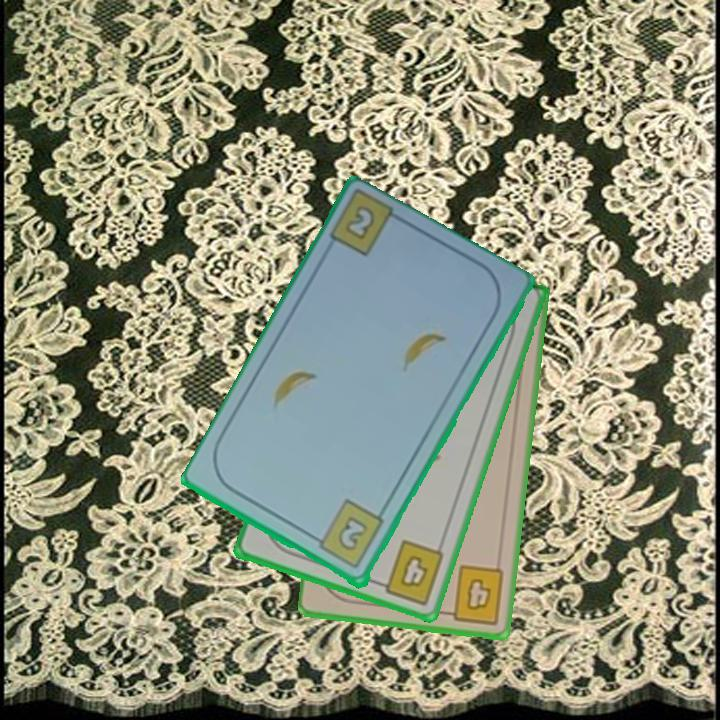2b: (309, 497, 387, 572), (341, 205, 379, 244)
4b: (371, 536, 448, 608), (439, 562, 508, 627)
